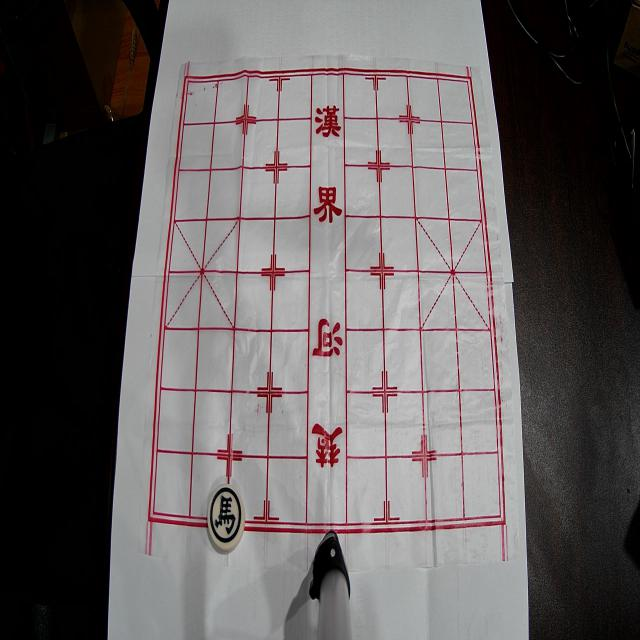black-horse: (208, 484, 245, 551)
